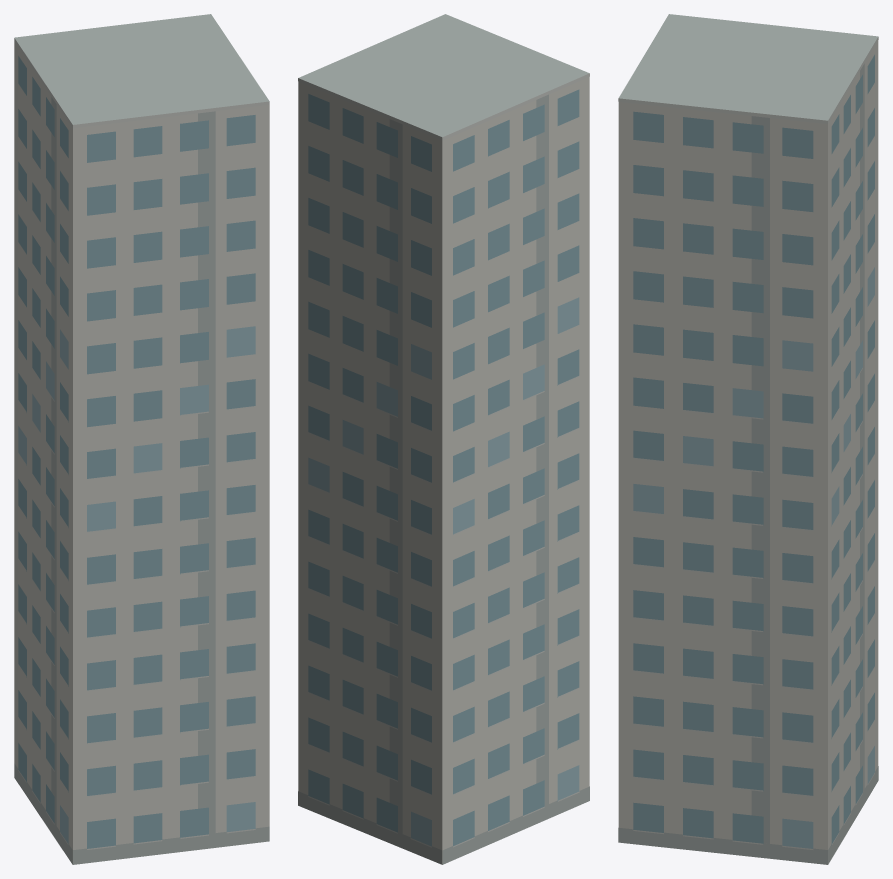
File: residential-ecd3ba76-39e5-49d3-b683-eeb8397ba9f4.glb
3 renders of one model, left to right at view 1: azimuth 30°, elevation 25°; view 2: azimuth 150°, elevation 25°; view 3: azimuth 270°, elevation 25°, orthographic. The views are drawn at different scales.
Visible parts, largest first — view 1: residential-ecd3ba76-39e5-49d3-b683-eeb8397ba9f4.tmp; view 2: residential-ecd3ba76-39e5-49d3-b683-eeb8397ba9f4.tmp; view 3: residential-ecd3ba76-39e5-49d3-b683-eeb8397ba9f4.tmp.
Part boxes in pixels (<box>): residential-ecd3ba76-39e5-49d3-b683-eeb8397ba9f4.tmp: <box>14,14,269,864</box>; residential-ecd3ba76-39e5-49d3-b683-eeb8397ba9f4.tmp: <box>298,14,589,864</box>; residential-ecd3ba76-39e5-49d3-b683-eeb8397ba9f4.tmp: <box>618,14,878,864</box>.
Size of the model in its own units: 16 by 52 by 16.48.
